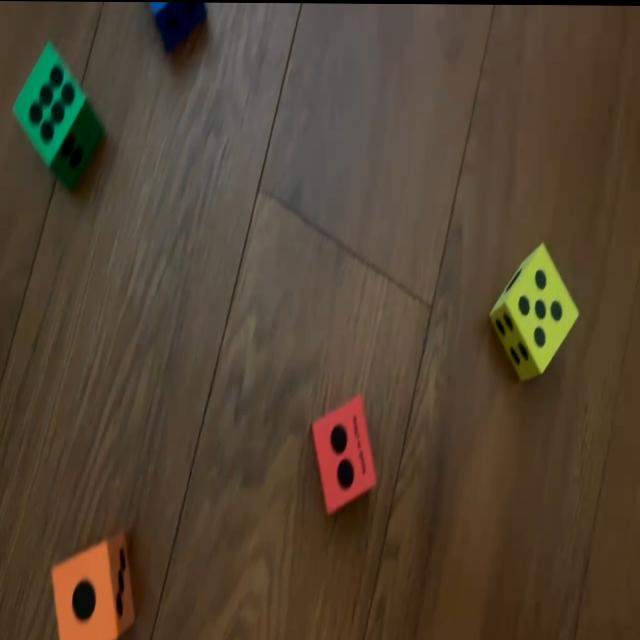cube: (11, 43, 101, 188), (312, 393, 376, 510), (148, 1, 207, 49)
